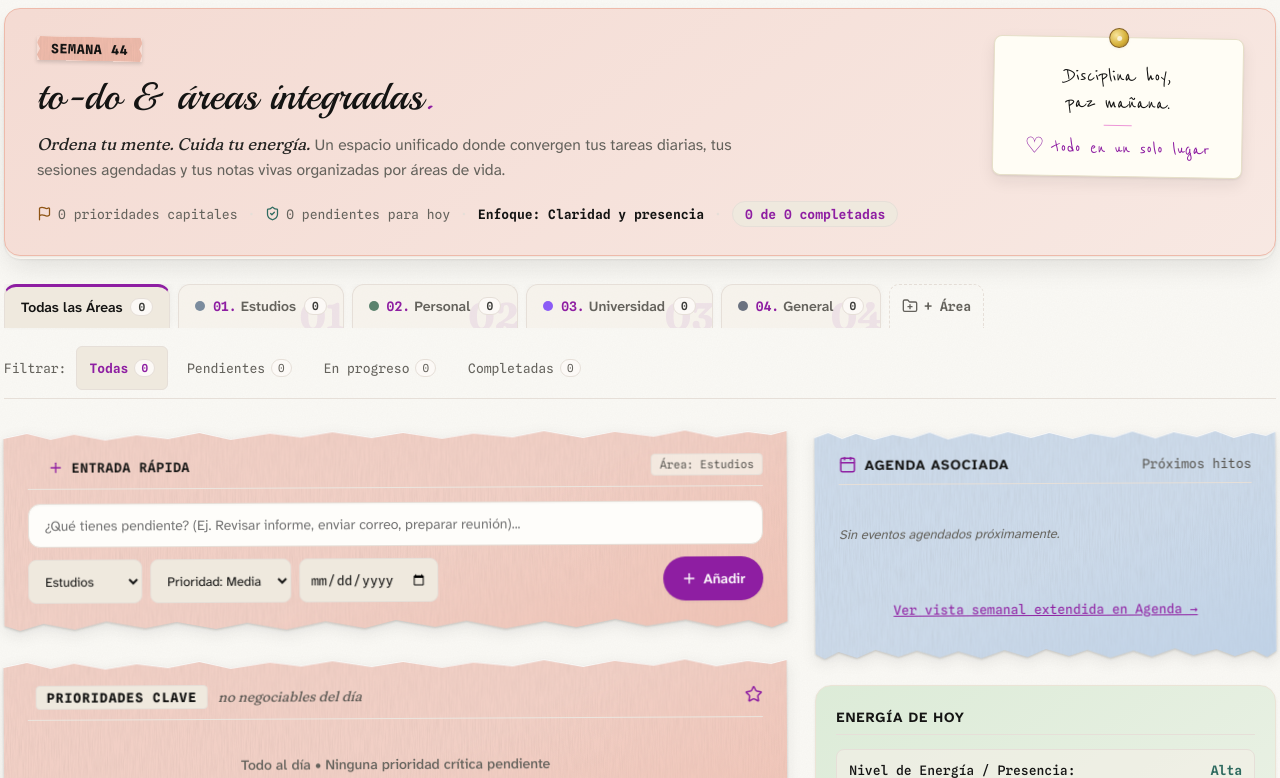
TodoView › permite asignar fecha de vencimiento al crear y editarla en la tarjeta
Type "Pagar cuentas" into the field with placeholder "¿Qué tienes pendiente?" at (396, 524), box 28,500 -> 763,548
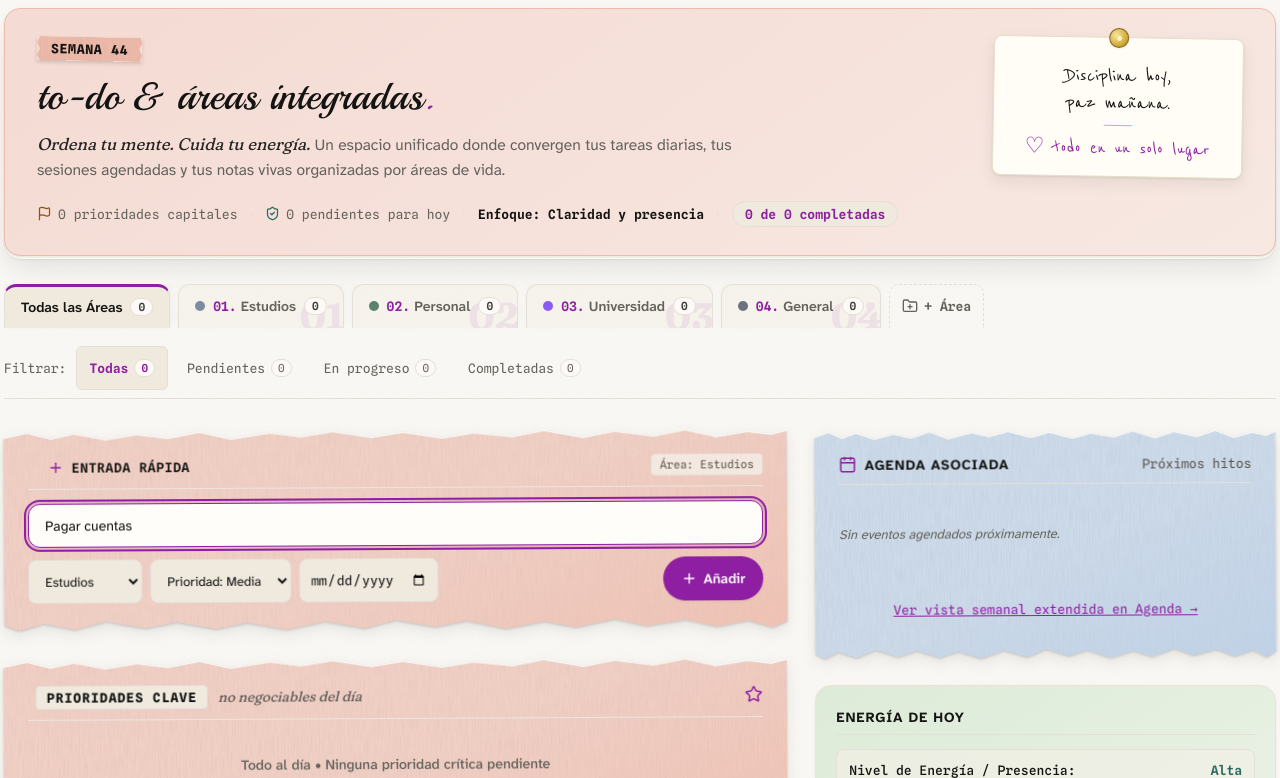
Type "2026-10-25" into the date field named "fecha de vencimiento" at (369, 580), box 299,558 -> 438,602
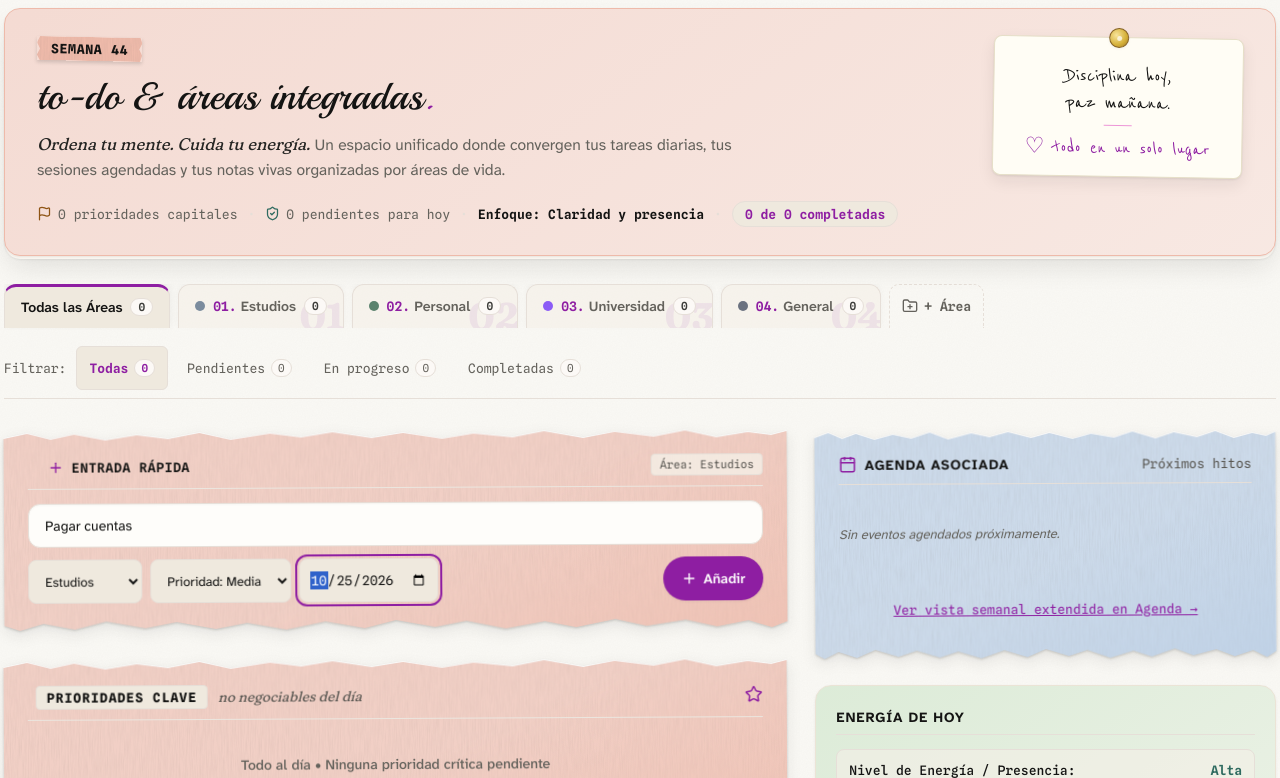
Click the button "Añadir" at (713, 578), box 663,556 -> 764,600
(page scrolled)
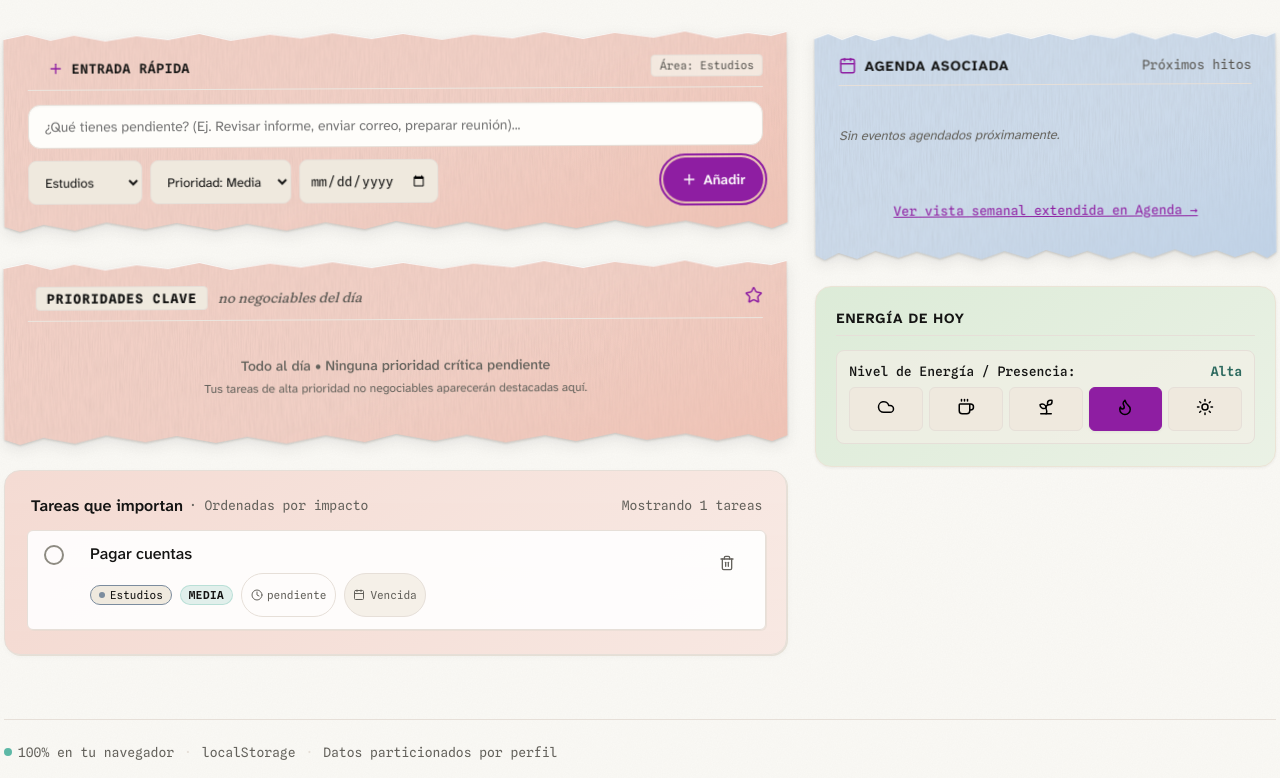
Result: the text "Pagar cuentas" is shown at 90,543 -> 192,565
Result: the button with aria-label "vencimiento: 2026-10-25" is shown at 344,573 -> 426,617
